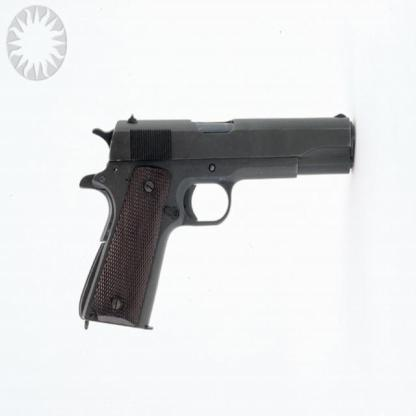weapon: (76, 110, 358, 333)
